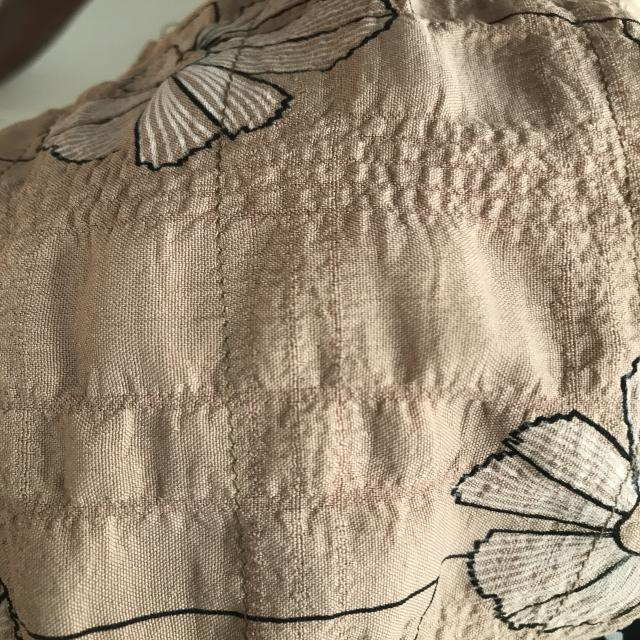good: (216, 416, 255, 486)
